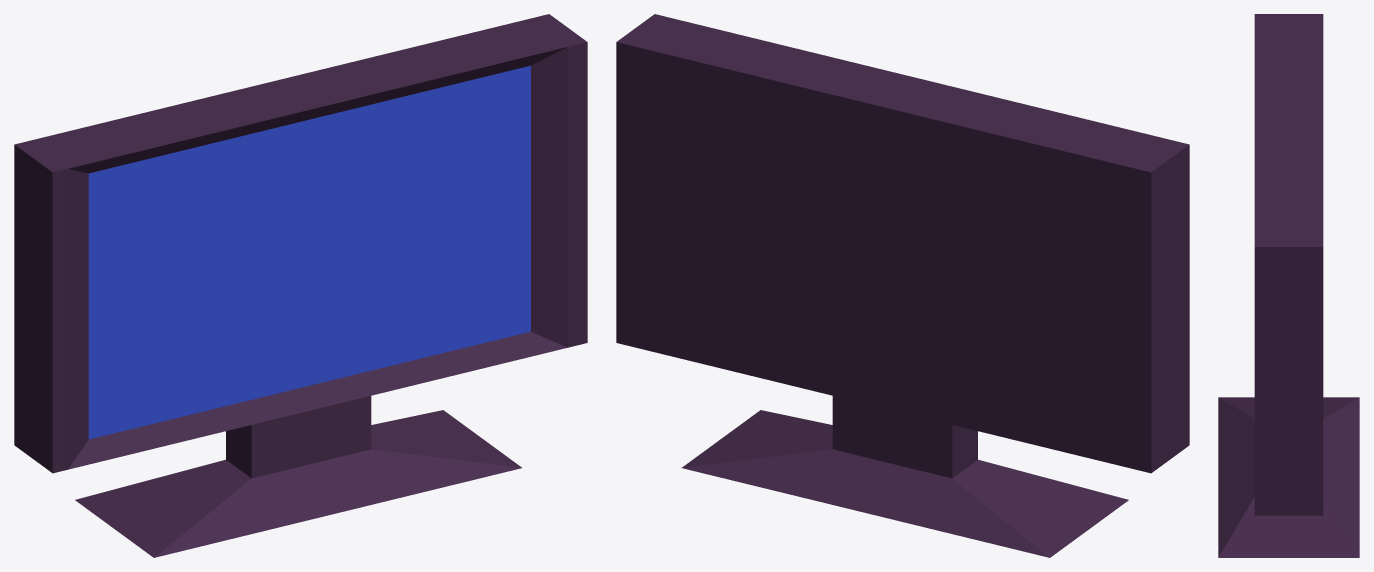
Rendered from monitor.fbx.
3 renders of one model, left to right at view 1: azimuth 30°, elevation 25°; view 2: azimuth 150°, elevation 25°; view 3: azimuth 270°, elevation 25°, orthographic. The views are drawn at different scales.
Visible parts, largest first — view 1: Cube; view 2: Cube; view 3: Cube.
Part boxes in pixels (x1,y1,x2,y2): Cube: (14, 14, 587, 557); Cube: (616, 14, 1189, 557); Cube: (1218, 14, 1359, 557).
Size of the model in its own units: 342 by 238 by 87.79.
